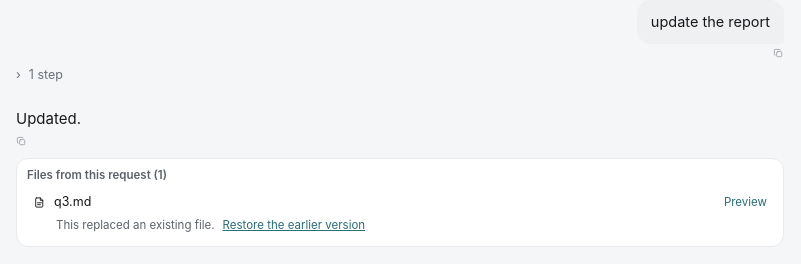
Test case: restoring a replaced file › offers the restore, reports success and shows a failure's reason
The width and height of the screenshot is (801, 264).
Click the button with test id "restore-version". click: (294, 225)
box: [222,216,365,234]
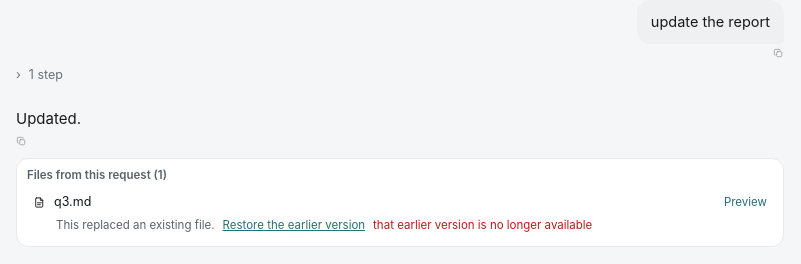
Check: the text with test id "restore-error" shows "no longer available", box [373,218,592,232]
Click the button with test id "restore-version". click: (294, 225)
box: [222,216,365,234]
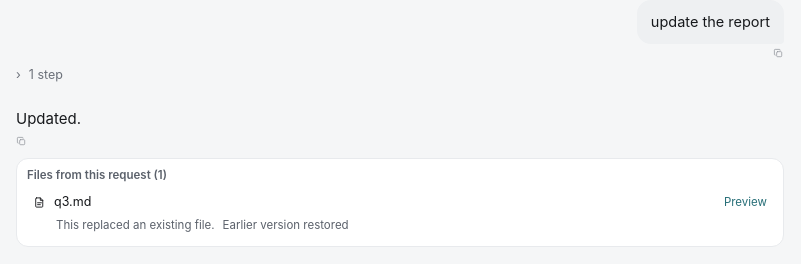
Check: the text "Earlier version restored" is shown, box [222,216,349,234]
